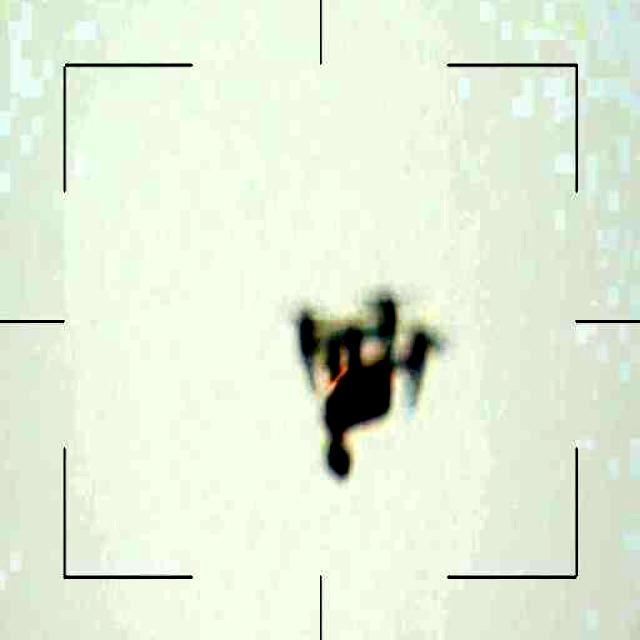bird: (281, 285, 430, 481)
